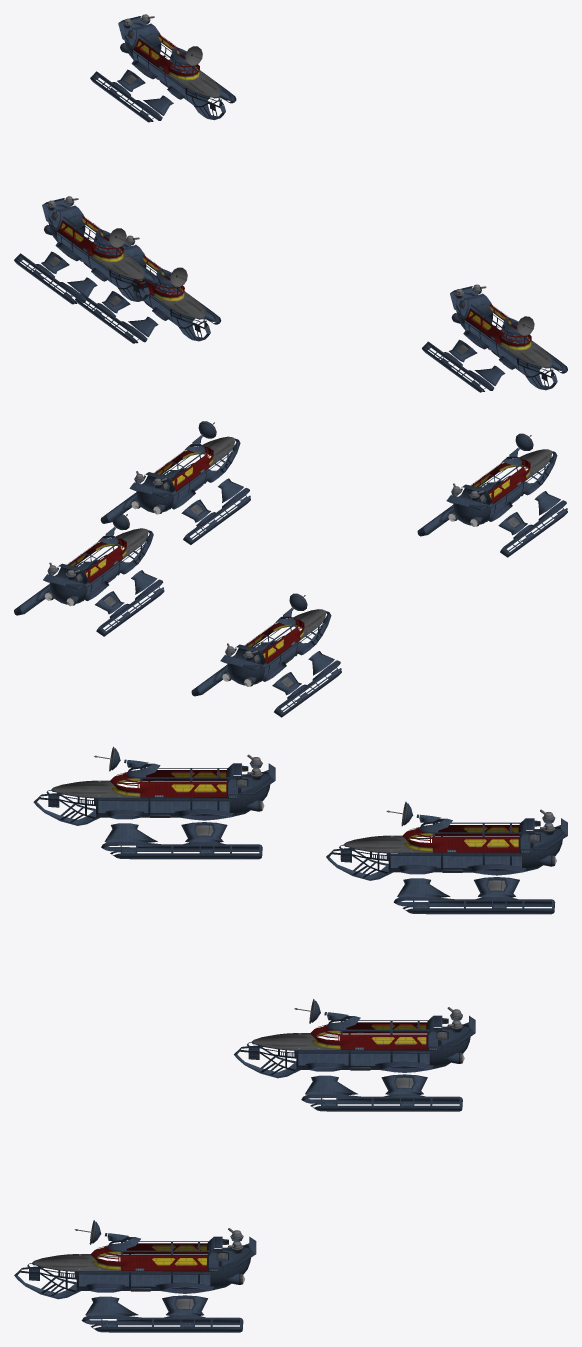
Rendered from stg310_16.obj.
3 views of the same model, one above another, from view 1: azimuth 30°, elevation 25°; view 2: azimuth 150°, elevation 25°; view 3: azimuth 270°, elevation 25° (orthographic). The views are drawn at different scales.
Visible parts, largest first — view 1: polygon34, polygon41, polygon27, polygon35, polygon28, polygon42, polygon20, polygon21, polygon23, polygon37, polygon44, polygon30 (+4 smaller); view 2: polygon20, polygon27, polygon41, polygon34, polygon28, polygon21, polygon42, polygon35, polygon39, polygon25, polygon32, polygon46 (+4 smaller); view 3: polygon41, polygon27, polygon20, polygon34, polygon28, polygon42, polygon21, polygon35, polygon46, polygon32, polygon25, polygon39 (+8 smaller).
Boxes of the visible parts, bbox=[...] form: polygon34: bbox=[422, 286, 567, 392]; polygon41: bbox=[14, 198, 159, 304]; polygon27: bbox=[90, 16, 235, 122]; polygon35: bbox=[422, 286, 567, 392]; polygon28: bbox=[90, 16, 236, 122]; polygon42: bbox=[14, 198, 160, 304]; polygon20: bbox=[75, 242, 220, 343]; polygon21: bbox=[75, 242, 221, 343]; polygon23: bbox=[154, 267, 205, 318]; polygon37: bbox=[500, 316, 552, 367]; polygon44: bbox=[93, 228, 144, 278]; polygon30: bbox=[169, 46, 220, 97]; polygon20: bbox=[193, 596, 341, 717]; polygon27: bbox=[103, 424, 250, 544]; polygon41: bbox=[420, 436, 567, 557]; polygon34: bbox=[16, 516, 164, 636]; polygon28: bbox=[100, 421, 250, 544]; polygon21: bbox=[191, 593, 341, 717]; polygon42: bbox=[417, 433, 567, 557]; polygon35: bbox=[14, 514, 164, 636]; polygon39: bbox=[67, 537, 126, 583]; polygon25: bbox=[236, 618, 304, 663]; polygon32: bbox=[154, 446, 213, 491]; polygon46: bbox=[471, 458, 530, 503]; polygon41: bbox=[33, 749, 275, 859]; polygon27: bbox=[326, 804, 567, 914]; polygon20: bbox=[234, 1002, 475, 1111]; polygon34: bbox=[14, 1223, 256, 1332]; polygon28: bbox=[332, 802, 567, 911]; polygon42: bbox=[40, 747, 274, 856]; polygon21: bbox=[240, 999, 475, 1108]; polygon35: bbox=[20, 1220, 255, 1329]; polygon46: bbox=[110, 770, 227, 797]; polygon32: bbox=[402, 825, 520, 852]; polygon25: bbox=[310, 1022, 427, 1050]; polygon39: bbox=[90, 1243, 208, 1271].
Bounding box in the file's own units: 3415 × 1986 × 2650.
